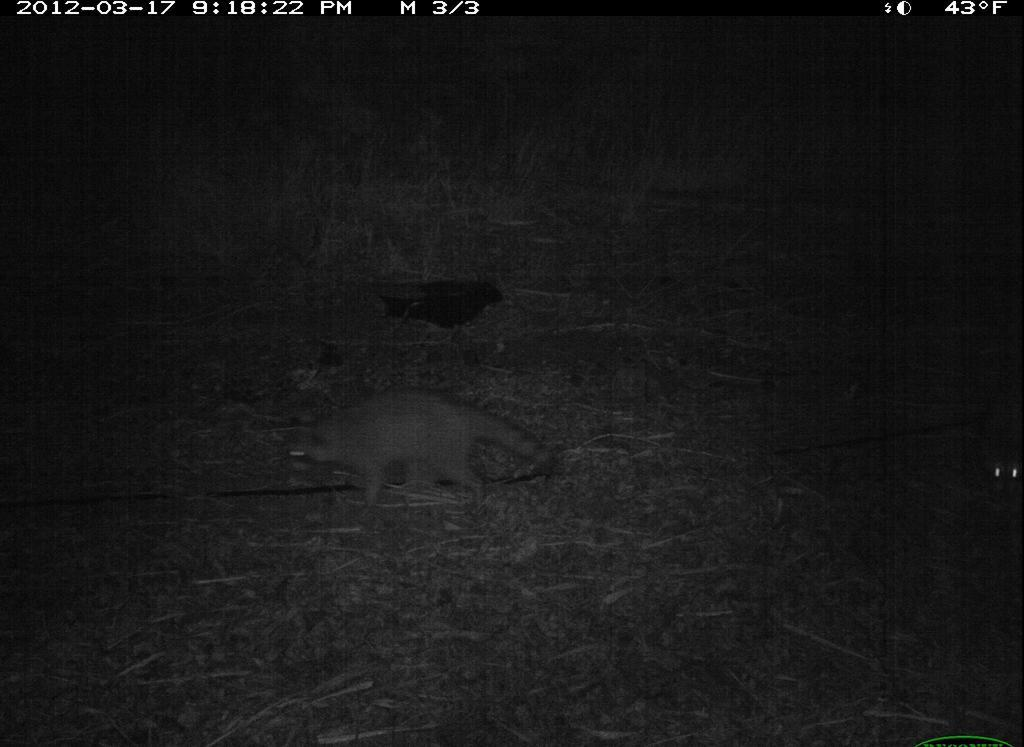raccoon: (259, 378, 580, 527)
